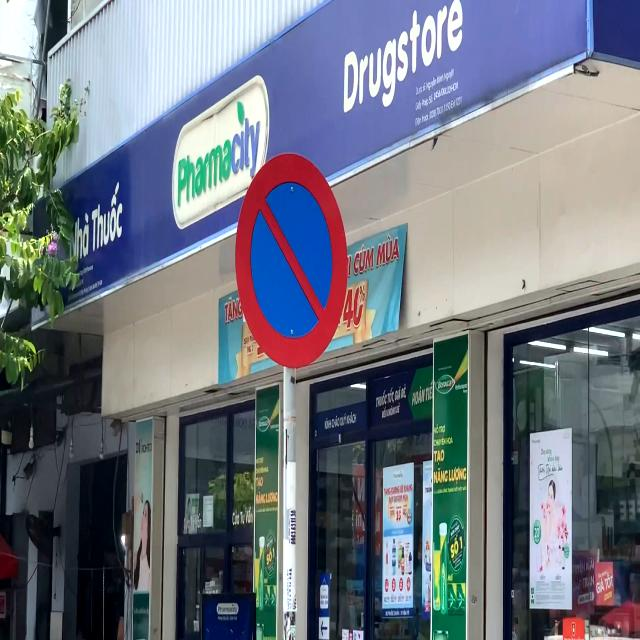P.131a: (234, 152, 349, 371)
